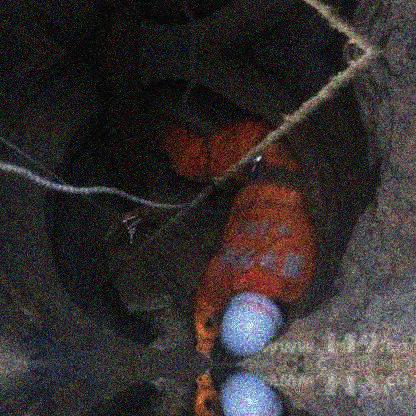helmet: (214, 288, 286, 354)
